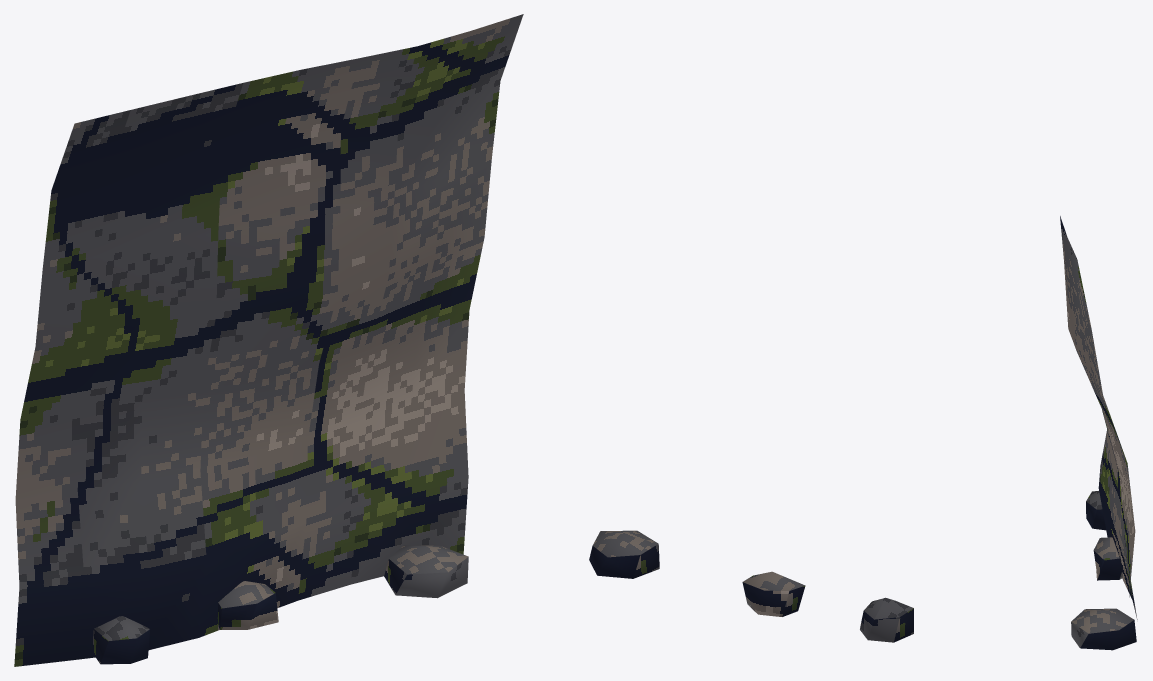
Rendered from cave.wall.glb.
3 views of the same model, side by side, from view 1: azimuth 30°, elevation 25°; view 2: azimuth 150°, elevation 25°; view 3: azimuth 270°, elevation 25° (orthographic). The views are drawn at different scales.
Visible parts, largest first — view 1: kit_shell_rock, kit_scree; view 2: kit_scree; view 3: kit_shell_rock, kit_scree.
Boxes of the visible parts, x1,y1,x2,y2 form: kit_shell_rock: [14, 14, 523, 666]; kit_scree: [92, 545, 468, 664]; kit_scree: [589, 530, 913, 642]; kit_shell_rock: [1060, 216, 1137, 619]; kit_scree: [1071, 491, 1136, 650].
Size of the model in its own units: 4 by 5 by 1.04.
Materials: 1 (1 with a texture image).
